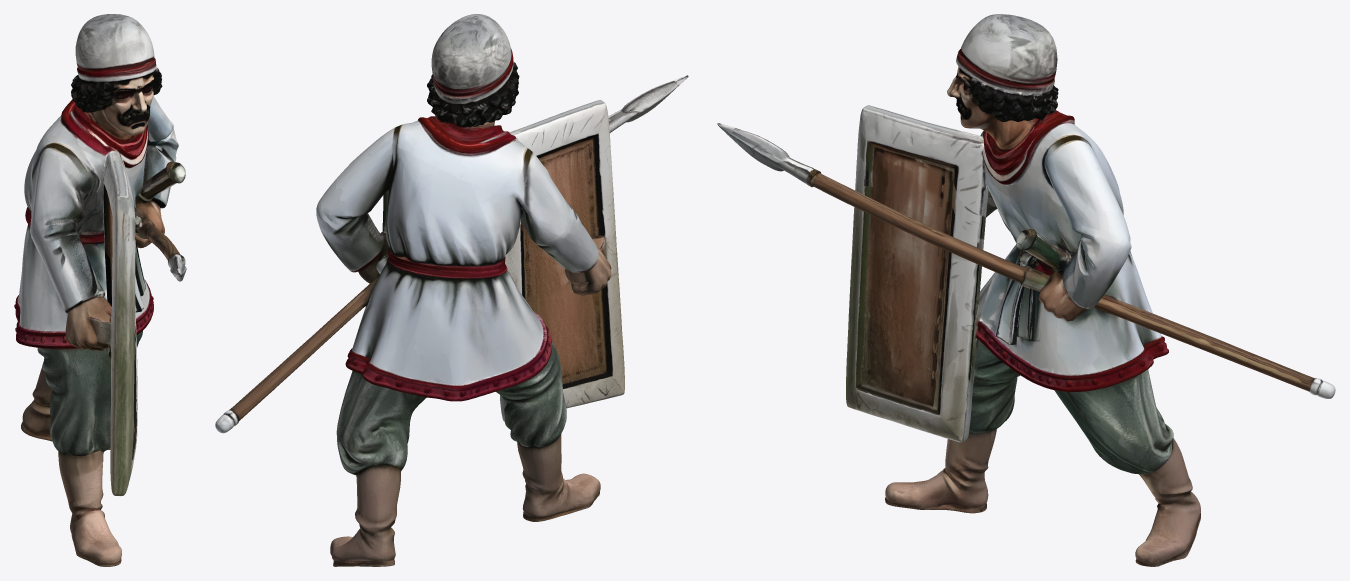
Rendered from militia__spear-infantry.glb.
3 renders of one model, left to right at view 1: azimuth 30°, elevation 25°; view 2: azimuth 150°, elevation 25°; view 3: azimuth 270°, elevation 25°, orthographic. The views are drawn at different scales.
Bounding box in the file's own units: 0.7174 × 1.74 × 1.9.
1 material, 1 textured.
